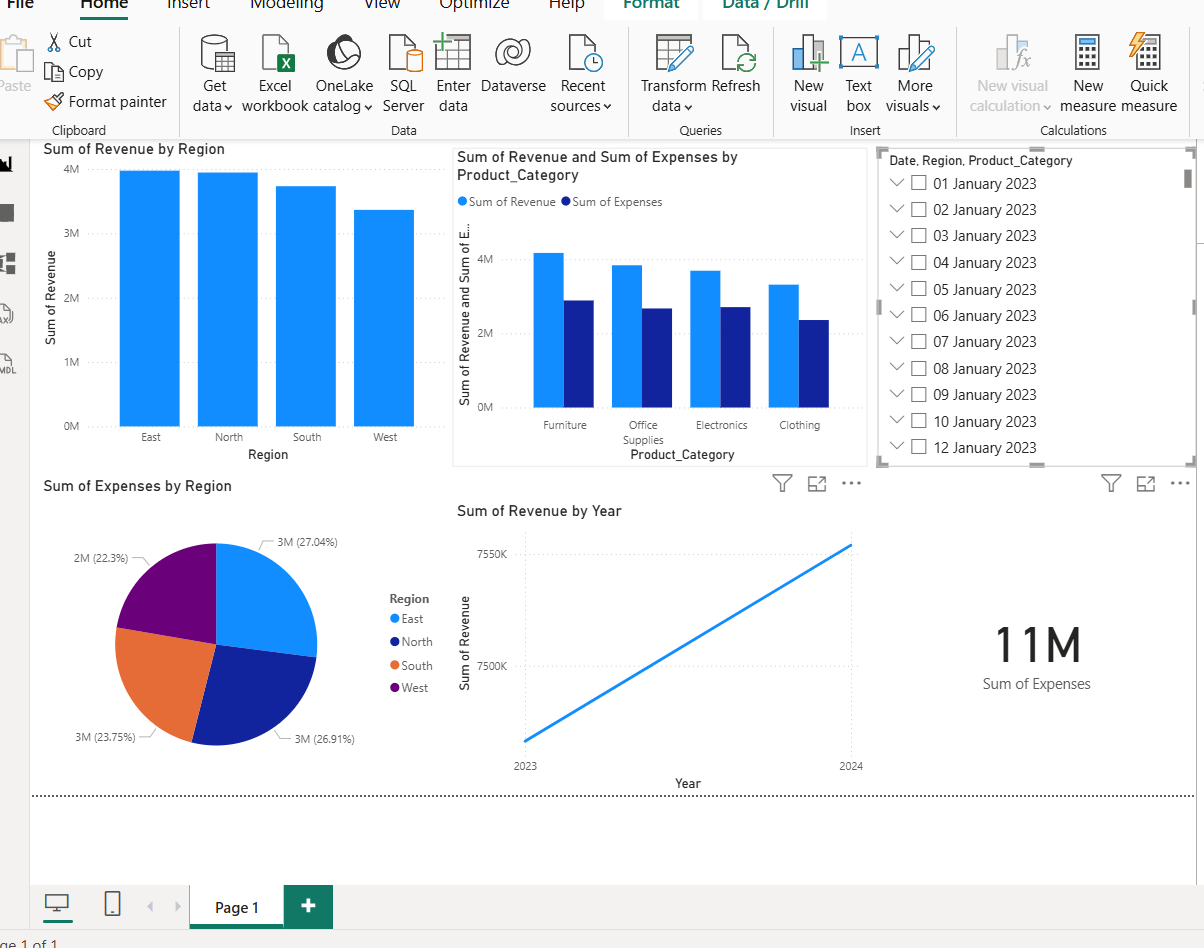

What the dashboard file says about the page in this screenshot:
{"tool":"powerbi","page":{"name":"Page 1","canvas":[1280,720],"ordinal":0},"visuals":[{"type":"columnChart","fields":{"Y":["Sum(financial_data_1000.Revenue)"],"Category":["financial_data_1000.Region"]},"box":[9.6,0,454.2,359.5],"z":0},{"type":"pieChart","fields":{"Y":["Sum(financial_data_1000.Expenses)"],"Category":["financial_data_1000.Region"]},"box":[10,370,454,350],"z":1},{"type":"lineChart","fields":{"Category":["financial_data_1000.Date.Variation.Date Hierarchy.Year","financial_data_1000.Date.Variation.Date Hierarchy.Quarter","financial_data_1000.Date.Variation.Date Hierarchy.Month","financial_data_1000.Date.Variation.Date Hierarchy.Day"],"Y":["Sum(financial_data_1000.Revenue)"]},"box":[463.8,397.9,455.6,322.5],"z":2},{"type":"clusteredColumnChart","fields":{"Category":["financial_data_1000.Product_Category"],"Y":["Sum(financial_data_1000.Revenue)","Sum(financial_data_1000.Expenses)"]},"box":[463.8,9.6,455.6,349.9],"z":3},{"type":"slicer","fields":{"Values":["financial_data_1000.Date","financial_data_1000.Region","financial_data_1000.Product_Category"]},"box":[930,10,350,350],"z":4},{"type":"card","fields":{"Values":["Sum(financial_data_1000.Expenses)"]},"box":[930,398,350,322],"z":5}]}

Visuals, with their boxes on the page's 1280x720 design canvas (x1, y1, x2, y2). These are canvas units, not pixel positions in the 1204x948 screenshot, which may show the page scaled, cropped or inside an application window:
columnChart - Sum(financial_data_1000.Revenue) x financial_data_1000.Region: <bbox>10, 0, 464, 360</bbox>
pieChart - Sum(financial_data_1000.Expenses) x financial_data_1000.Region: <bbox>10, 370, 464, 720</bbox>
lineChart - financial_data_1000.Date.Variation.Date Hierarchy.Year x financial_data_1000.Date.Variation.Date Hierarchy.Quarter: <bbox>464, 398, 919, 720</bbox>
clusteredColumnChart - financial_data_1000.Product_Category x Sum(financial_data_1000.Revenue): <bbox>464, 10, 919, 360</bbox>
slicer - financial_data_1000.Date x financial_data_1000.Region: <bbox>930, 10, 1280, 360</bbox>
card - Sum(financial_data_1000.Expenses): <bbox>930, 398, 1280, 720</bbox>
